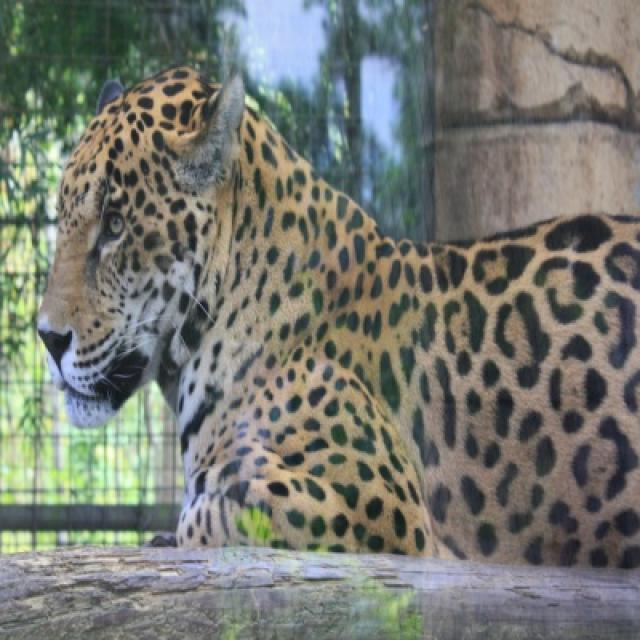Jaguar: (35, 67, 638, 571)
